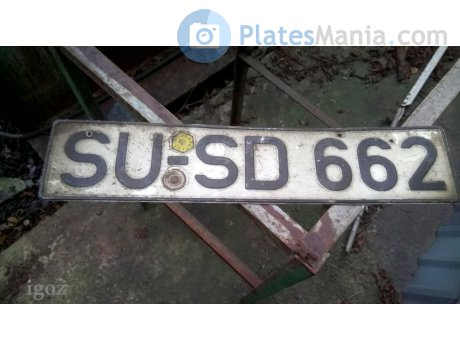License Plates: (51, 124, 449, 194)
